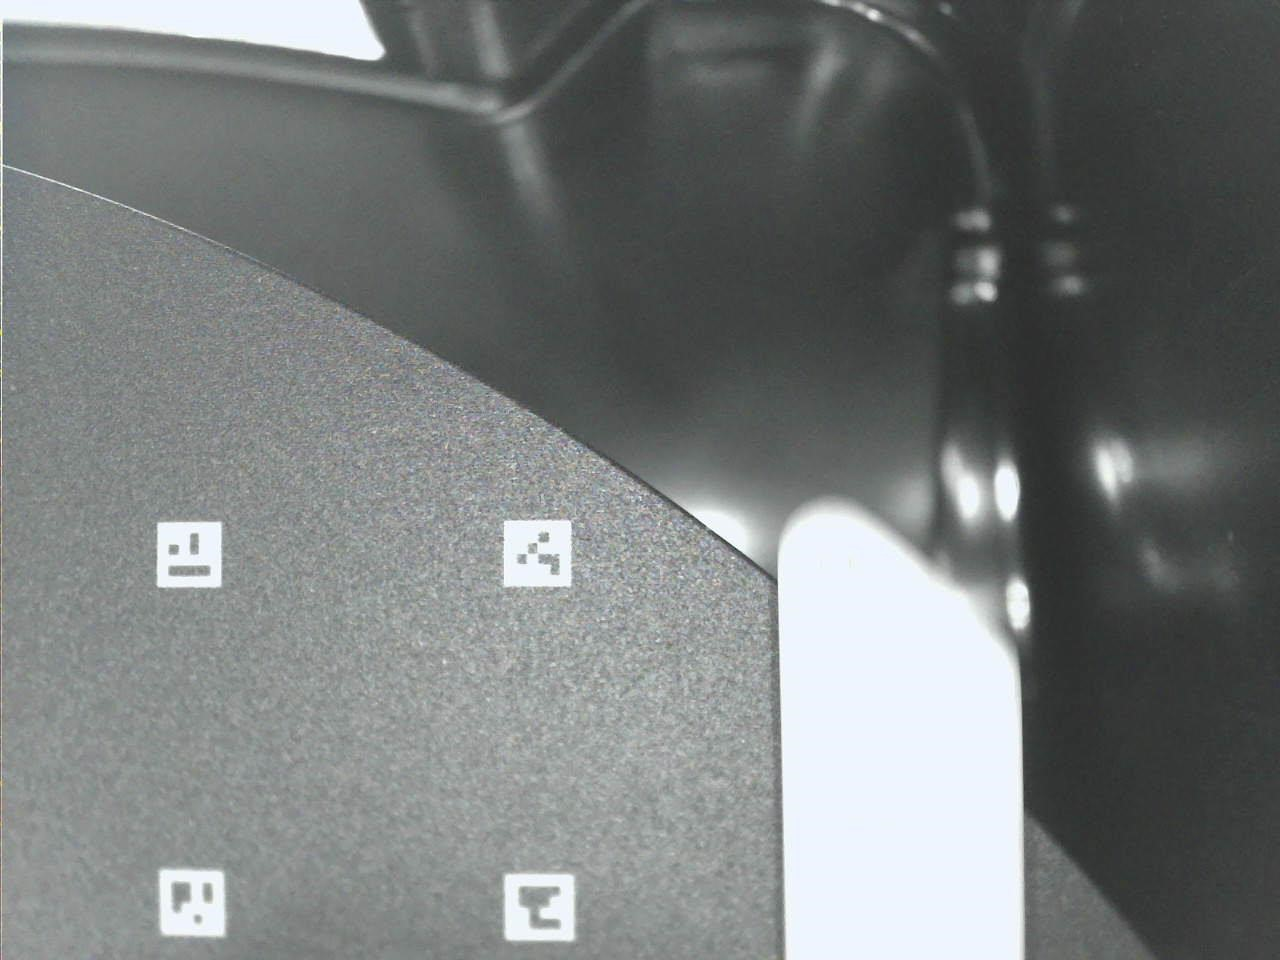forktip: (767, 477, 1040, 960)
